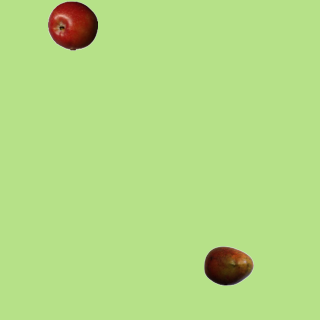Apple Braeburn: (47, 0, 97, 50)
Mango Red: (203, 240, 253, 290)
